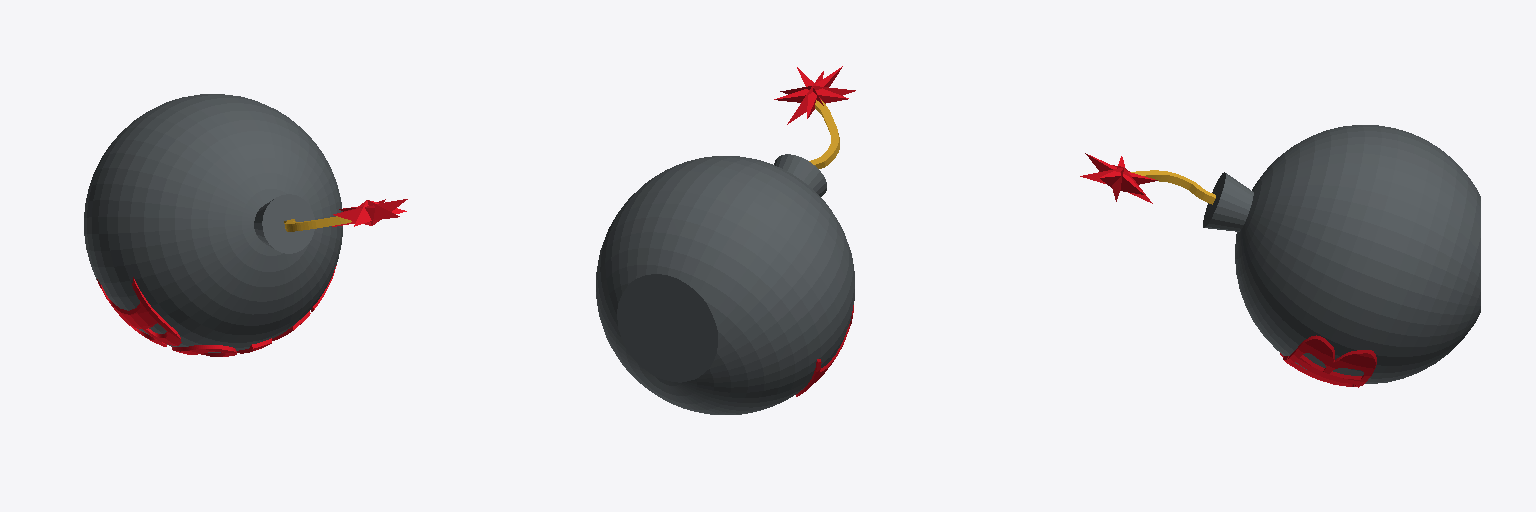
The model's file is tinker.obj.
The picture shows the model from 3 angles: view 1: azimuth 30°, elevation 25°; view 2: azimuth 150°, elevation 25°; view 3: azimuth 270°, elevation 25°; orthographic projection.
Parts seen in each view (by area): view 1: obj_0; view 2: obj_0; view 3: obj_0.
Boxes of the visible parts, x1,y1,x2,y2 form: obj_0: [84, 94, 407, 356]; obj_0: [596, 66, 855, 414]; obj_0: [1080, 125, 1480, 387].
Size of the model in its own units: 65 by 65.8 by 100.